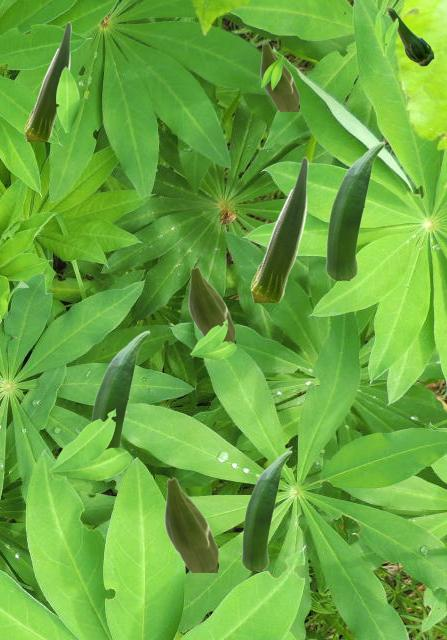okra: (250, 156, 307, 301), (325, 141, 384, 279), (91, 330, 149, 447), (241, 450, 291, 569), (24, 21, 70, 140), (164, 477, 217, 571), (188, 266, 234, 341), (386, 6, 433, 65), (260, 42, 298, 110)
